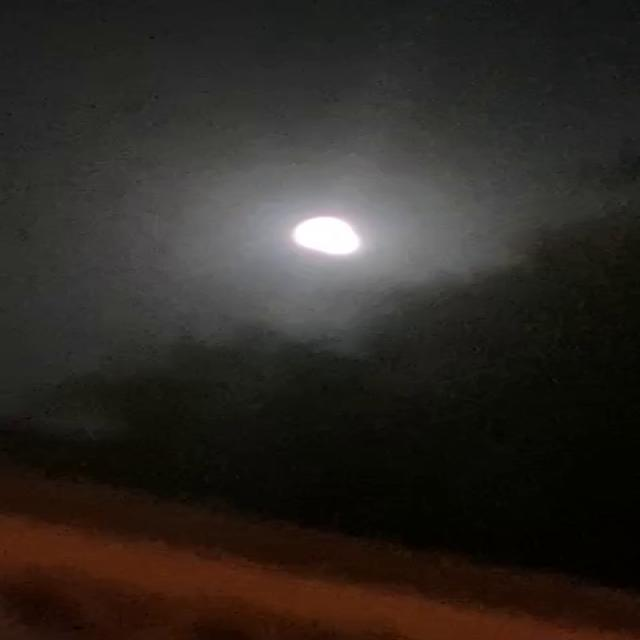moon: (302, 225, 386, 269)
